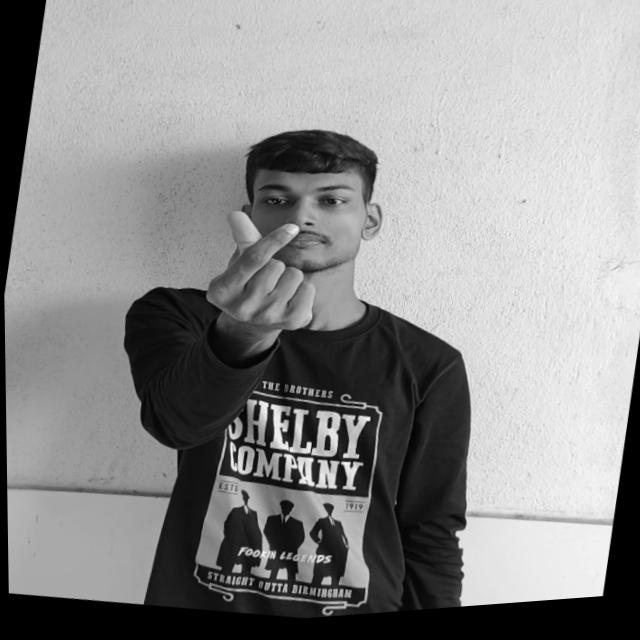Grattitude: (194, 207, 335, 349)
